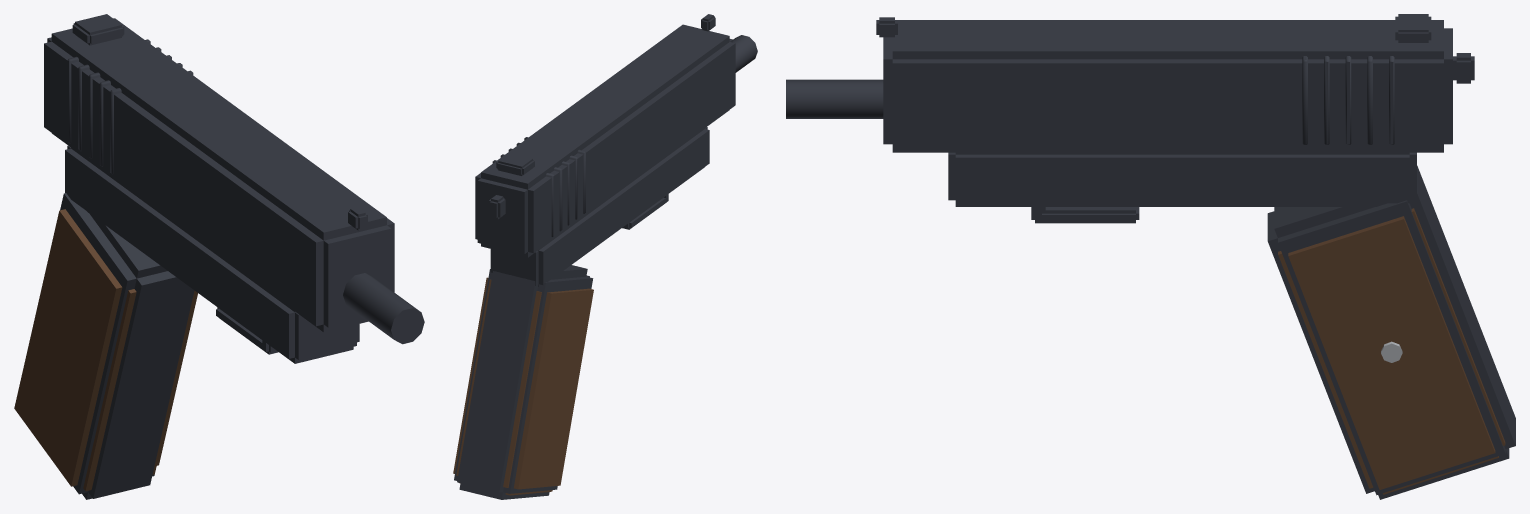
The model's file is item_pistol_hand.glb.
3 renders of one model, left to right at view 1: azimuth 30°, elevation 25°; view 2: azimuth 150°, elevation 25°; view 3: azimuth 270°, elevation 25°, orthographic. The views are drawn at different scales.
Parts seen in each view (by area): view 1: pistol; view 2: pistol; view 3: pistol.
Part boxes in pixels (bbox=[...]): pistol: bbox=[14, 14, 424, 499]; pistol: bbox=[453, 14, 757, 499]; pistol: bbox=[786, 14, 1515, 499].
Size of the model in its own units: 0.0298 by 0.1428 by 0.2024.
